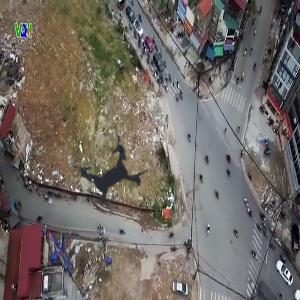drone: (44, 108, 175, 239)
